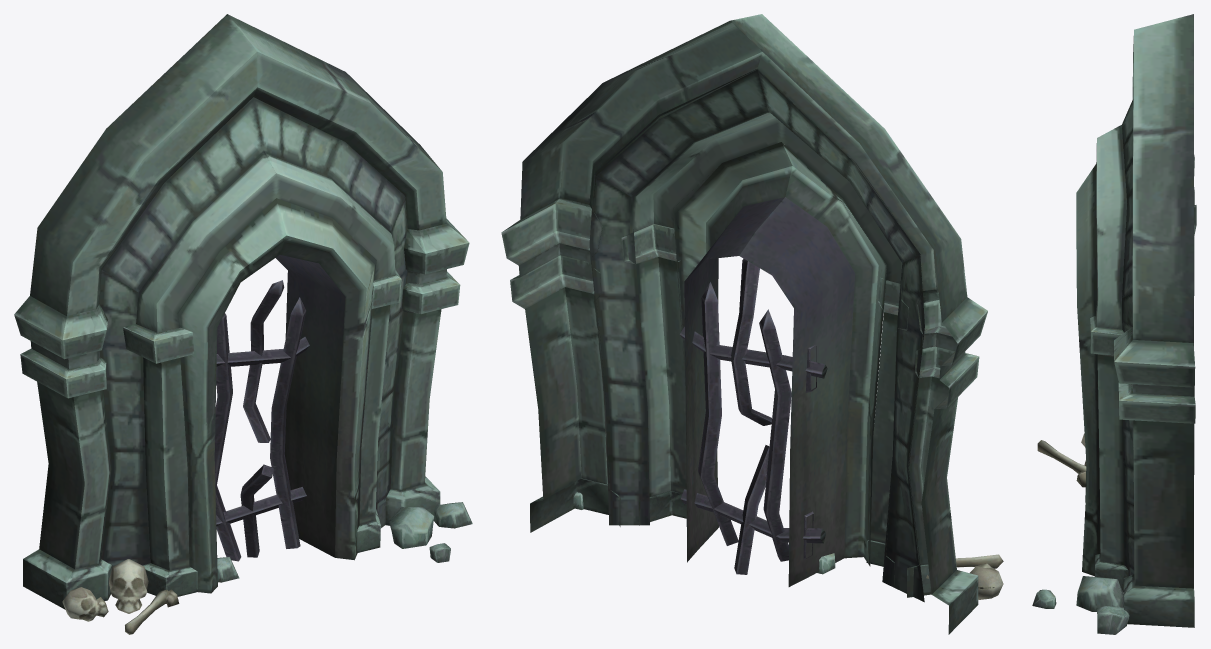
The model's file is crypt_spawner01.fbx.
3 renders of one model, left to right at view 1: azimuth 30°, elevation 25°; view 2: azimuth 150°, elevation 25°; view 3: azimuth 270°, elevation 25°, orthographic. The views are drawn at different scales.
Visible parts, largest first — view 1: spawner_brazier; view 2: spawner_brazier; view 3: spawner_brazier.
Boxes of the visible parts, <box> form: spawner_brazier: <box>14,14,472,634</box>; spawner_brazier: <box>501,14,1003,634</box>; spawner_brazier: <box>1032,14,1196,634</box>.
Size of the model in its own units: 4.54 by 5.42 by 1.52.
